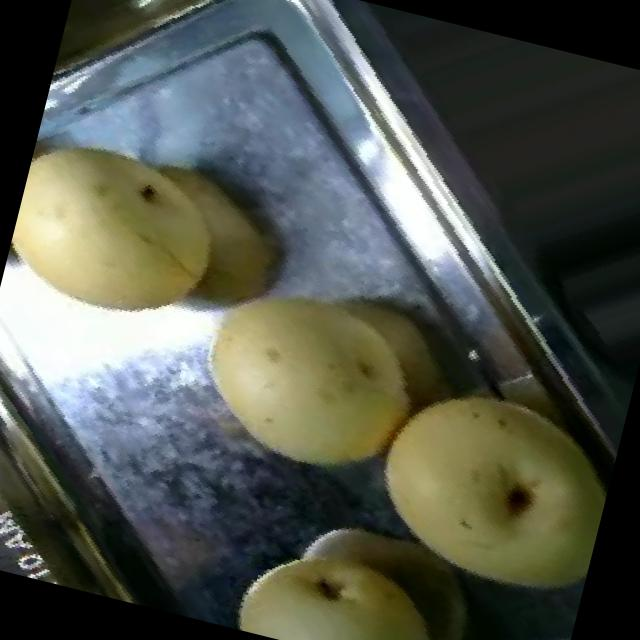Fruit: (161, 230, 482, 522), (332, 332, 632, 636), (0, 93, 266, 353), (218, 486, 488, 640)
